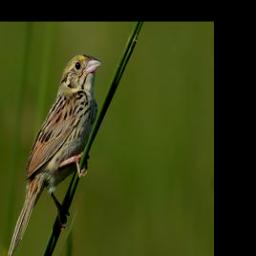Sparrow: (6, 53, 103, 256)
